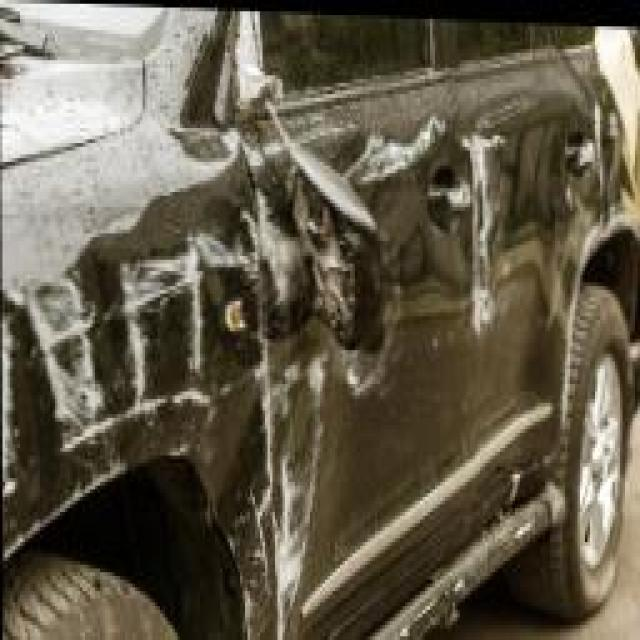Door: (268, 56, 495, 638), (495, 41, 619, 554)
Fender: (0, 132, 267, 640)
